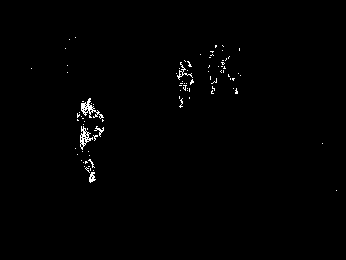person: (79, 97, 106, 182), (176, 60, 195, 109)
